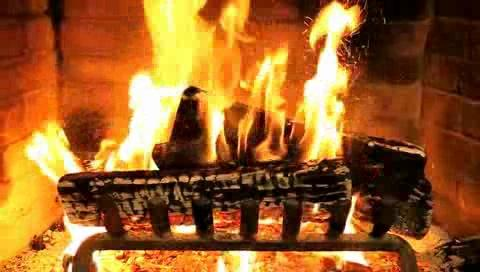fire: (114, 7, 335, 163)
